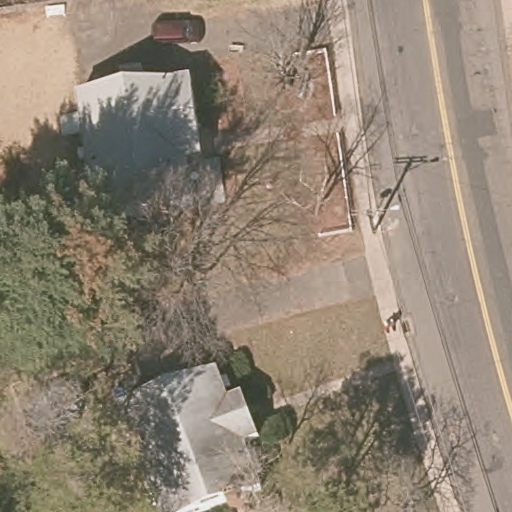DT: (351, 203, 401, 233)
